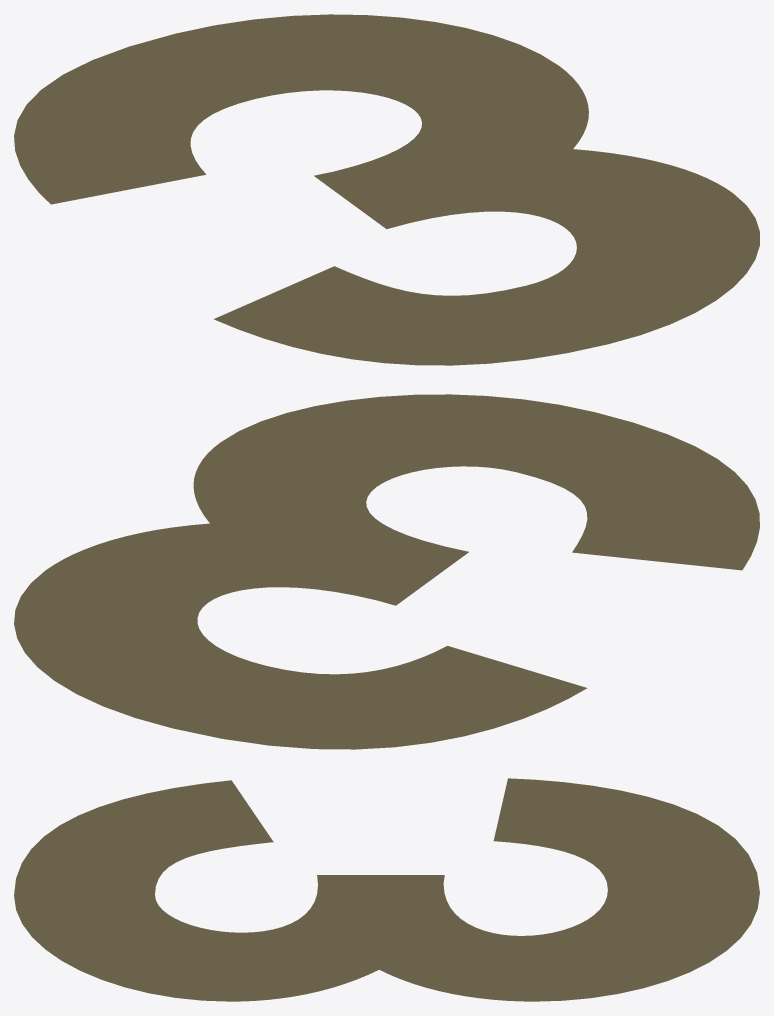
3 views of the same model, one above another, from view 1: azimuth 30°, elevation 25°; view 2: azimuth 150°, elevation 25°; view 3: azimuth 270°, elevation 25° (orthographic). The views are drawn at different scales.
Parts seen in each view (by area): view 1: テキスト; view 2: テキスト; view 3: テキスト.
Boxes of the visible parts, bbox=[...] form: テキスト: bbox=[14, 14, 759, 365]; テキスト: bbox=[14, 394, 759, 749]; テキスト: bbox=[14, 778, 759, 1001].
Bounding box in the file's own units: 0.4708 × 0 × 0.6647.
